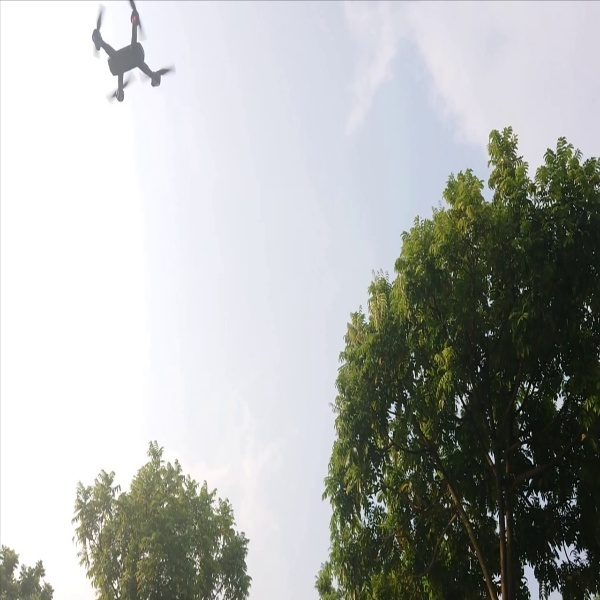drone: (84, 1, 181, 117)
